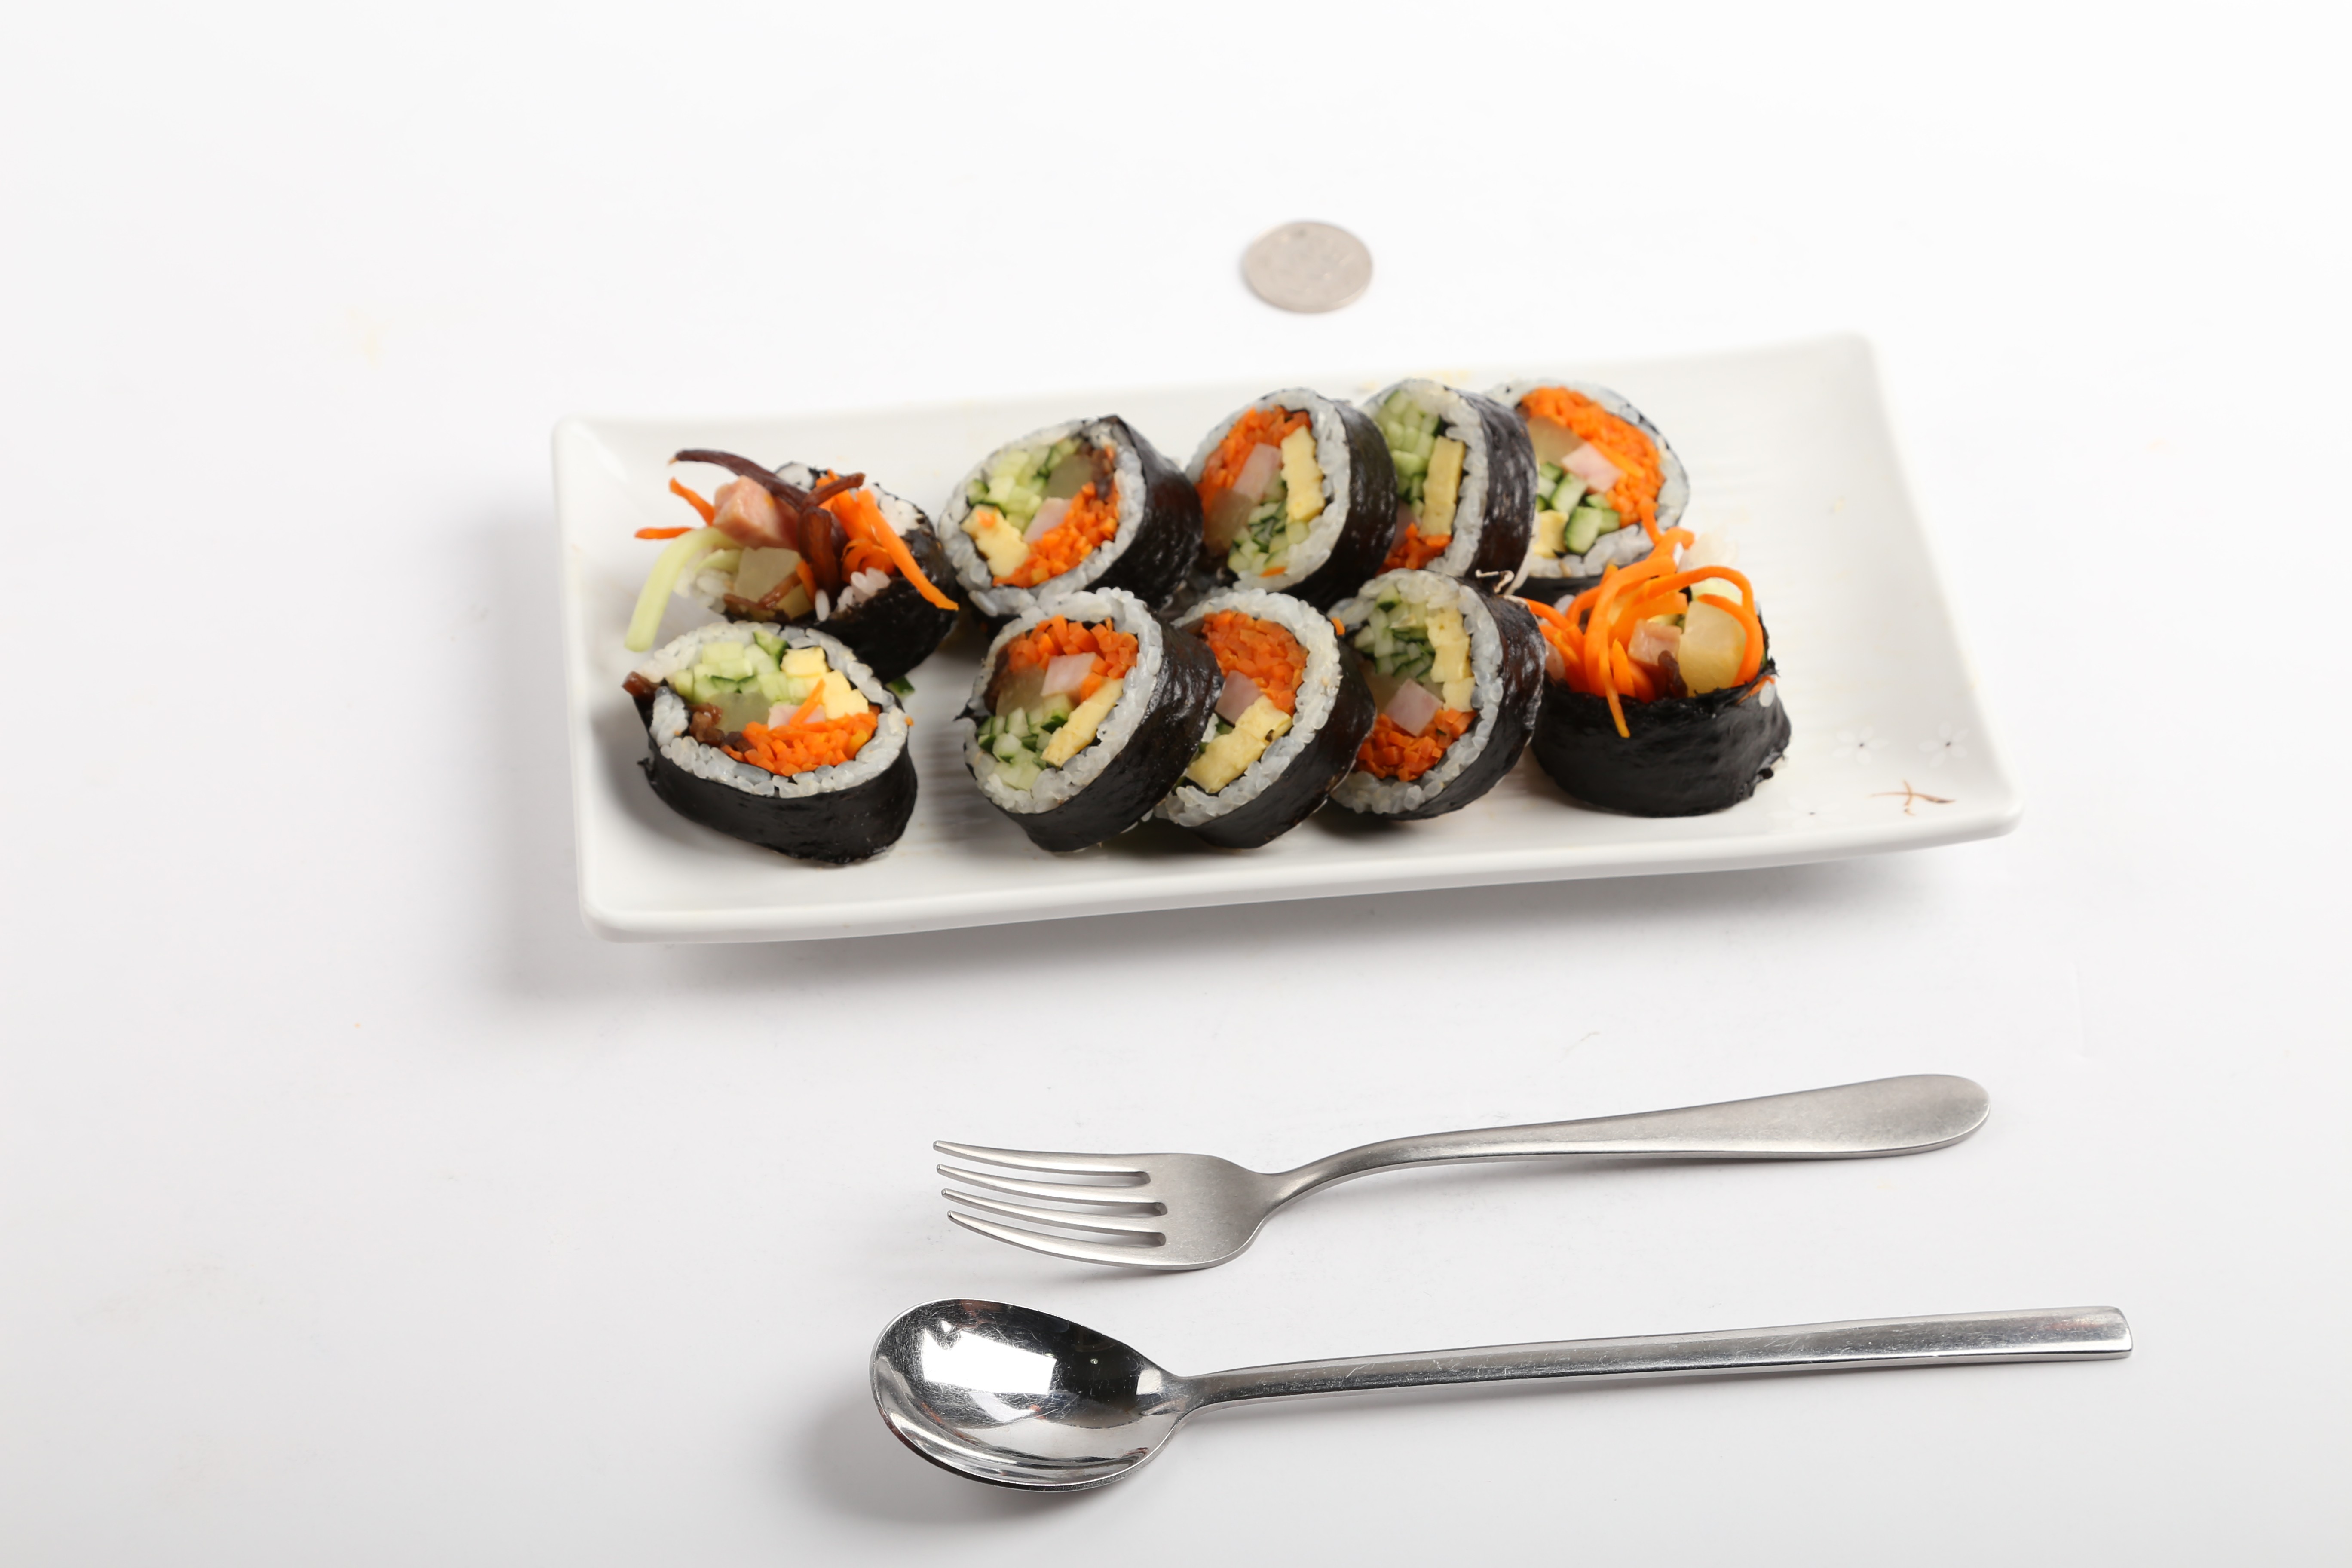dish: (551, 331, 2028, 952)
ref_coin: (1235, 213, 1375, 318)
ref_fork: (927, 1134, 1349, 1274)
ref_spoon: (863, 1295, 1283, 1496)
김밥: (637, 369, 1790, 868)
